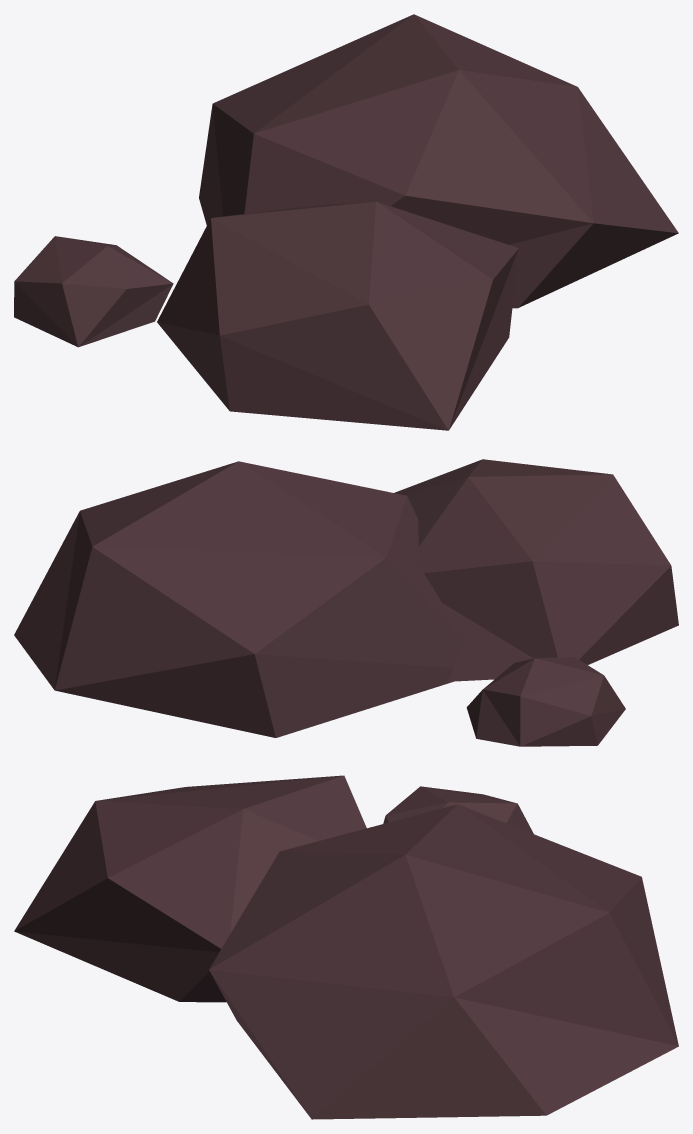
Rendered from SM_EN_Rocks_Small_Lvl3.fbx.
3 views of the same model, one above another, from view 1: azimuth 30°, elevation 25°; view 2: azimuth 150°, elevation 25°; view 3: azimuth 270°, elevation 25° (orthographic). The views are drawn at different scales.
Visible parts, largest first — view 1: Small Rocks_Lvl3; view 2: Small Rocks_Lvl3; view 3: Small Rocks_Lvl3.
Part boxes in pixels (x1,y1,x2,y2): Small Rocks_Lvl3: (14, 14, 678, 430); Small Rocks_Lvl3: (14, 459, 678, 746); Small Rocks_Lvl3: (14, 775, 678, 1119).
Bounding box in the file's own units: 118 × 113 × 33.14.
